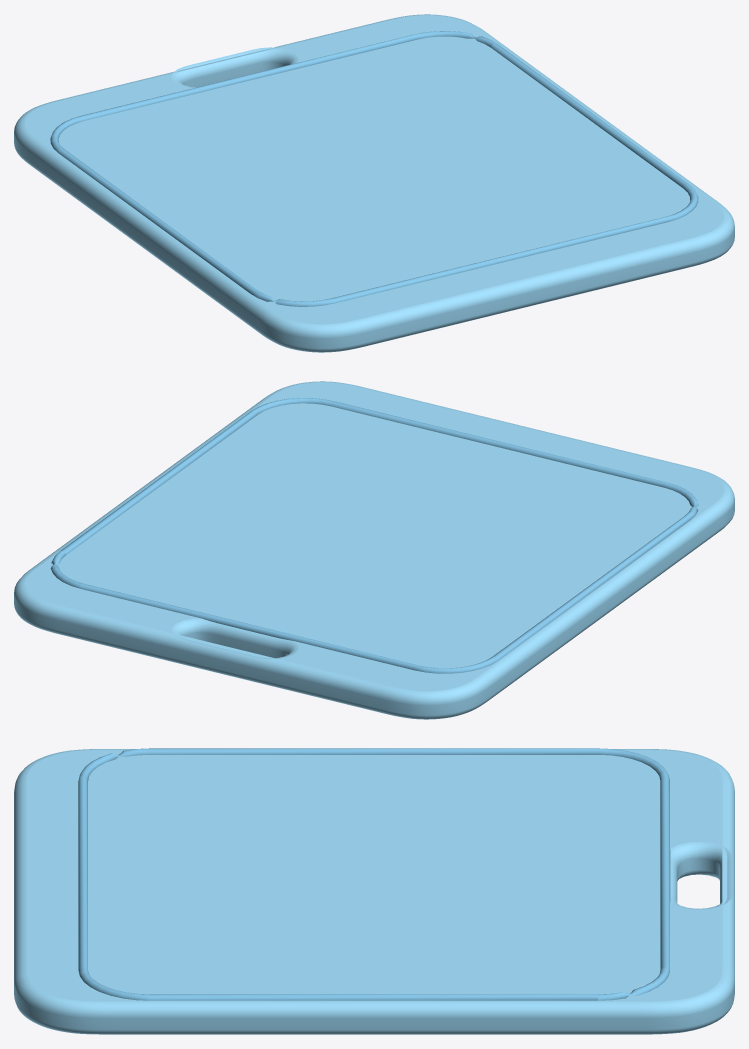
File: CuttingBoard.glb
3 views of the same model, one above another, from view 1: azimuth 30°, elevation 25°; view 2: azimuth 150°, elevation 25°; view 3: azimuth 270°, elevation 25° (orthographic). The views are drawn at different scales.
Visible parts, largest first — view 1: Board, Groove; view 2: Board, Groove; view 3: Board, Groove.
Boxes of the visible parts, x1,y1,x2,y2 form: Board: [14, 14, 734, 352]; Groove: [50, 31, 698, 306]; Board: [14, 381, 734, 719]; Groove: [50, 398, 698, 673]; Board: [14, 749, 734, 1034]; Groove: [78, 748, 670, 1000].
Size of the model in its own units: 14.82 by 0.91 by 17.22.
